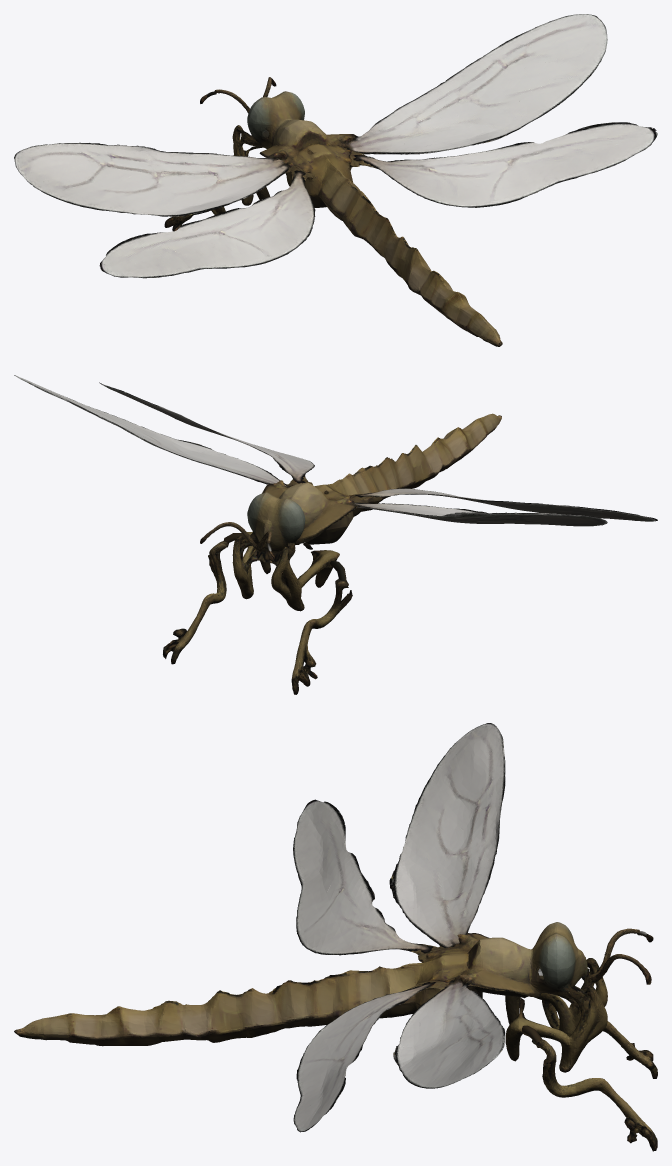
3 views of the same model, one above another, from view 1: azimuth 30°, elevation 25°; view 2: azimuth 150°, elevation 25°; view 3: azimuth 270°, elevation 25° (orthographic). The views are drawn at different scales.
Visible parts, largest first — view 1: world; view 2: world; view 3: world.
Part boxes in pixels (x1,y1,x2,y2): world: [14, 14, 657, 346]; world: [14, 375, 657, 694]; world: [14, 723, 657, 1151].
Bounding box in the file's own units: 0.996 × 0.2986 × 0.7847.
1 material, 1 textured.
